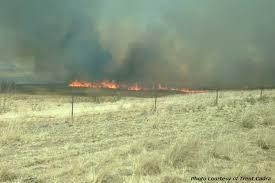fire: (68, 78, 145, 91)
